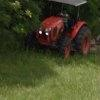Tractor: (24, 8, 100, 62)
